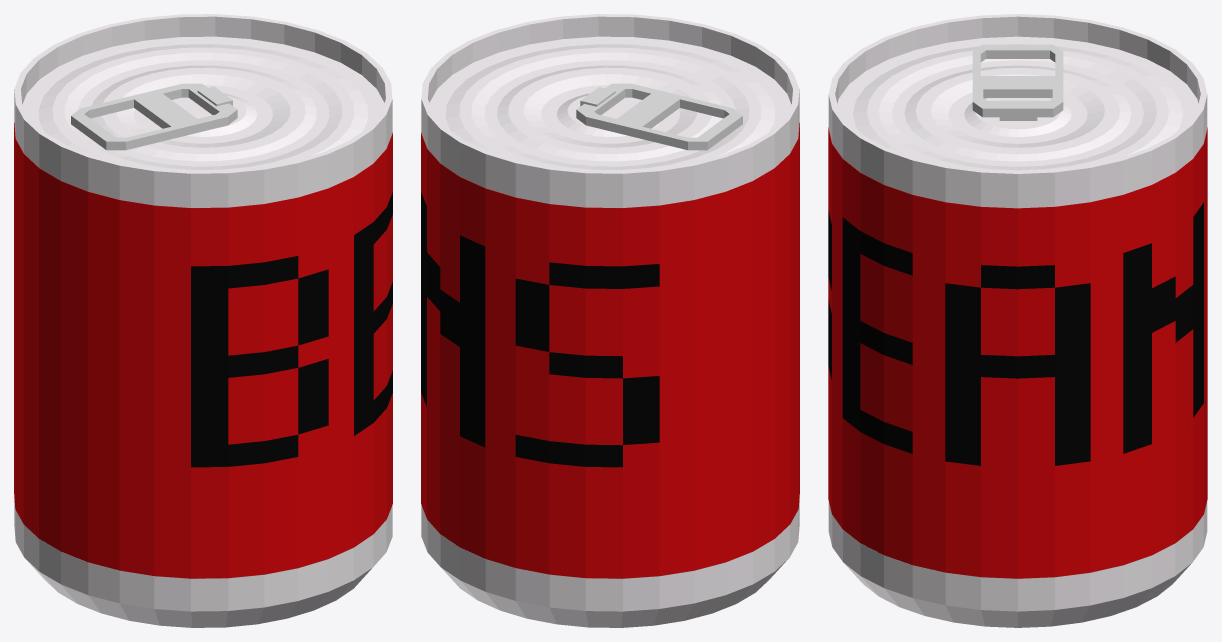
File: agent.fbx
3 renders of one model, left to right at view 1: azimuth 30°, elevation 25°; view 2: azimuth 150°, elevation 25°; view 3: azimuth 270°, elevation 25°, orthographic.
Visible parts, largest first — view 1: Cylinder.002, Cylinder, Cube; view 2: Cylinder.002, Cylinder, Cube; view 3: Cylinder.002, Cylinder, Cube, Cube.001.
Part boxes in pixels (left/top/right/bottom): Cylinder.002: left=14, top=123, right=392, bottom=578; Cylinder: left=14, top=14, right=392, bottom=627; Cube: left=71, top=83, right=237, bottom=150; Cylinder.002: left=421, top=123, right=799, bottom=578; Cylinder: left=421, top=14, right=799, bottom=627; Cube: left=576, top=83, right=742, bottom=150; Cylinder.002: left=828, top=127, right=1207, bottom=578; Cylinder: left=828, top=14, right=1207, bottom=627; Cube: left=972, top=44, right=1063, bottom=117; Cube.001: left=999, top=100, right=1037, bottom=120.
Bounding box in the file's own units: 1002 × 1350 × 1002.
